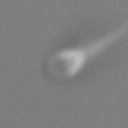normal: (86, 20, 128, 51)
